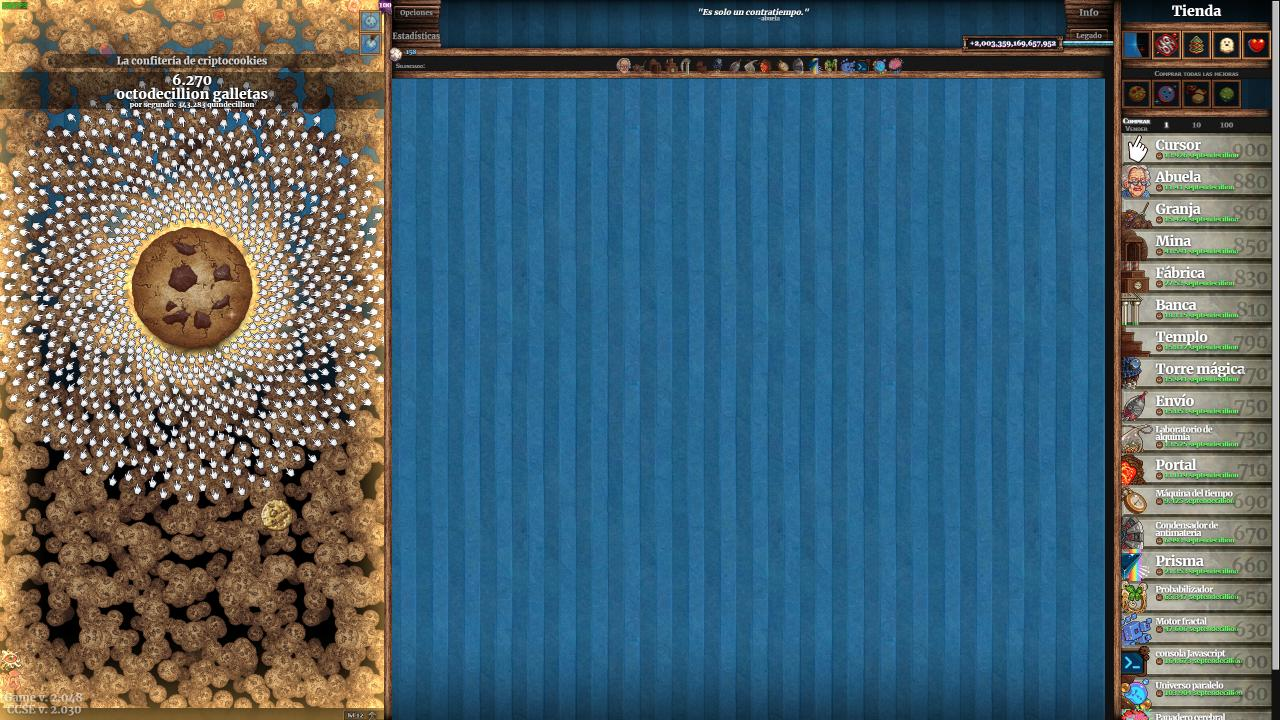GoldenCookie: (260, 499, 294, 532)
